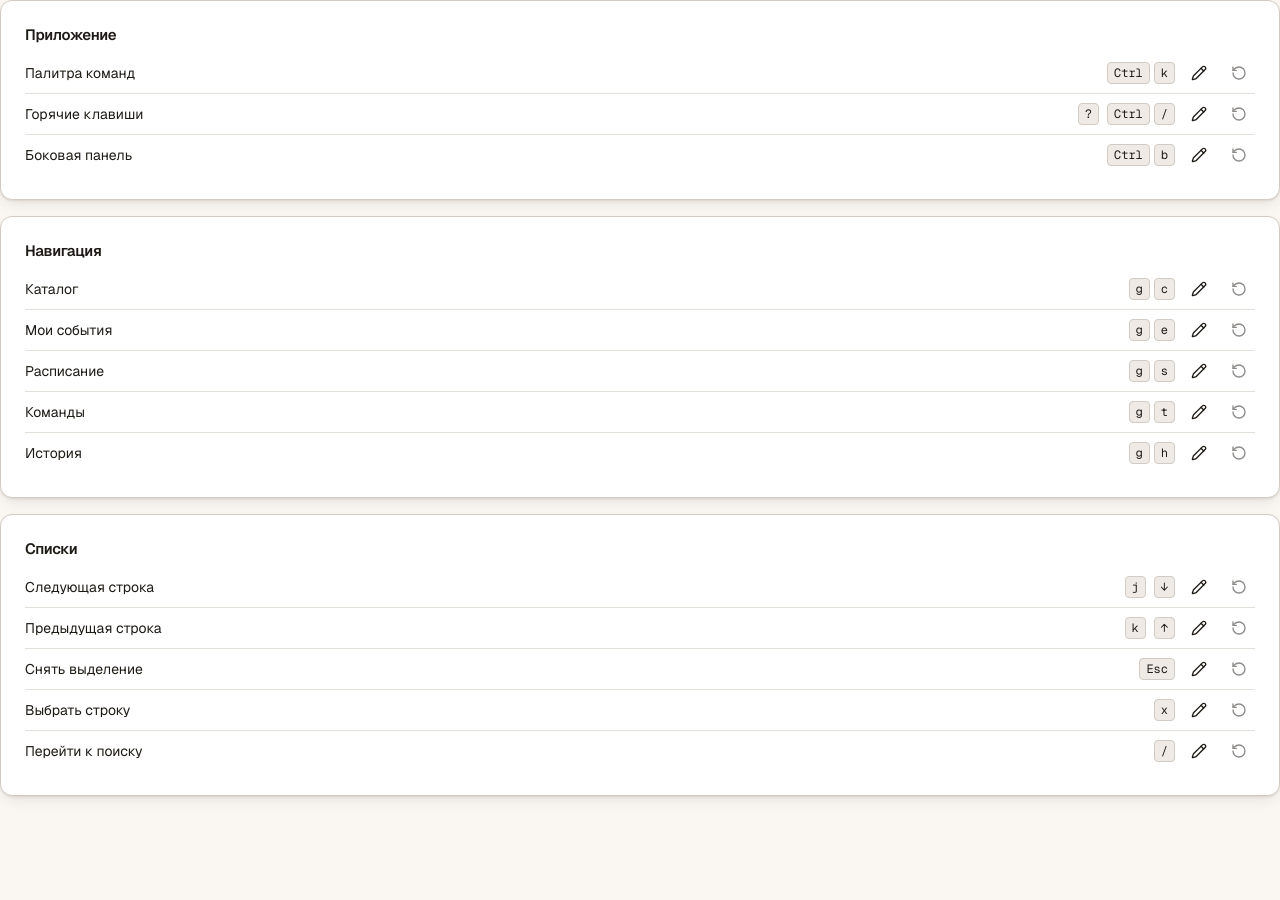
Test: what the screen shows while a combination is being recorded › keeps the prompt, and no save, until something has actually been pressed
Click the button named "Изменить «Палитра команд»" at (1199, 73), box [1183,57,1215,89]
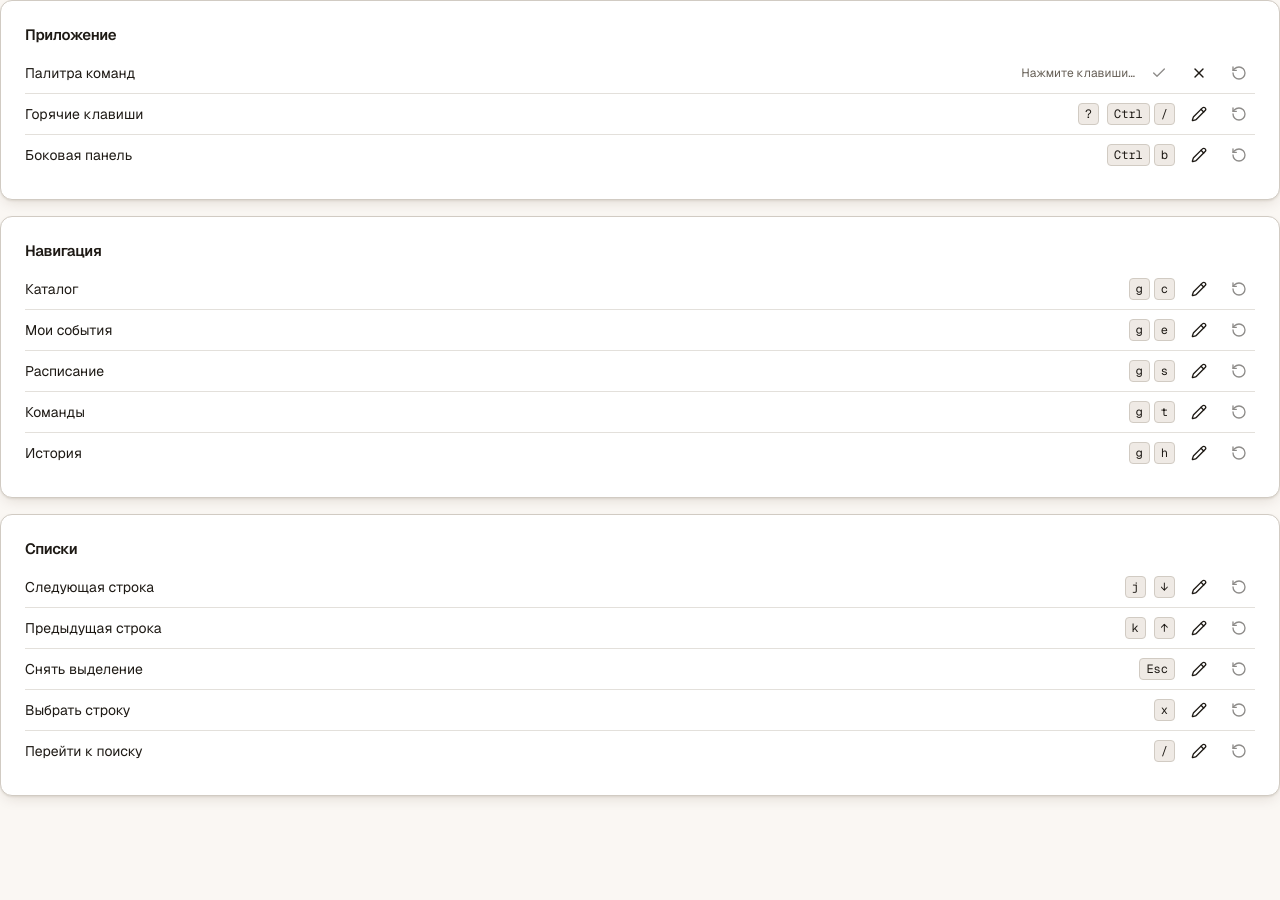
Check: the text "Нажмите клавиши…" is shown, box [1021,65,1135,81]
Check: the button named "Сохранить «Палитра команд»" is disabled, box [1143,57,1175,89]
